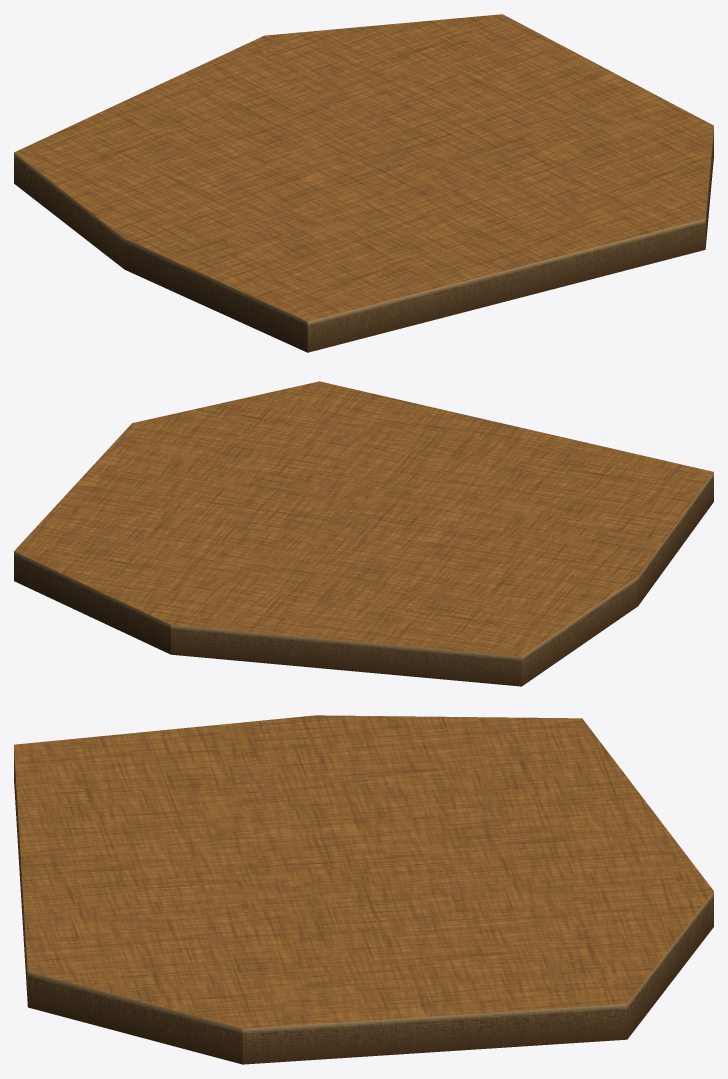
The model's file is Terrain03_C.FBX.
3 renders of one model, top to bottom at view 1: azimuth 30°, elevation 25°; view 2: azimuth 150°, elevation 25°; view 3: azimuth 270°, elevation 25°, orthographic. The views are drawn at different scales.
Visible parts, largest first — view 1: Terrain03_C; view 2: Terrain03_C; view 3: Terrain03_C.
Boxes of the visible parts, x1=… form: Terrain03_C: x1=14, y1=14, x2=713, y2=352; Terrain03_C: x1=14, y1=381, x2=713, y2=686; Terrain03_C: x1=14, y1=715, x2=713, y2=1064.
Size of the model in its own units: 945 by 50.36 by 892.
Materials: 1 (1 with a texture image).
